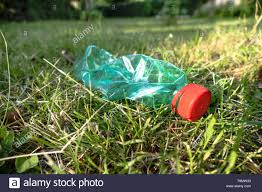plastic_bottle: (72, 46, 211, 120)
